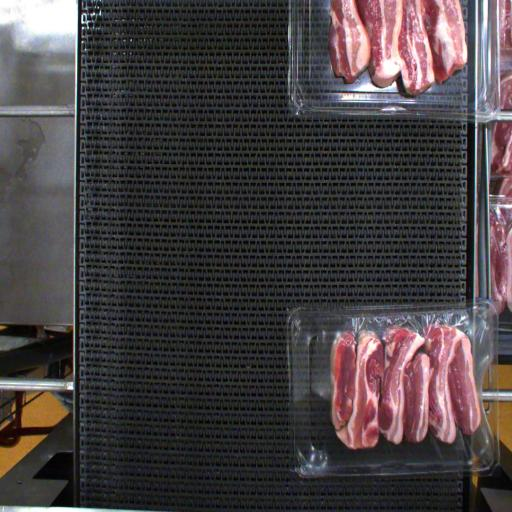unsealed: (290, 311, 495, 469)
